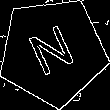N_SE: (24, 20, 81, 83)
